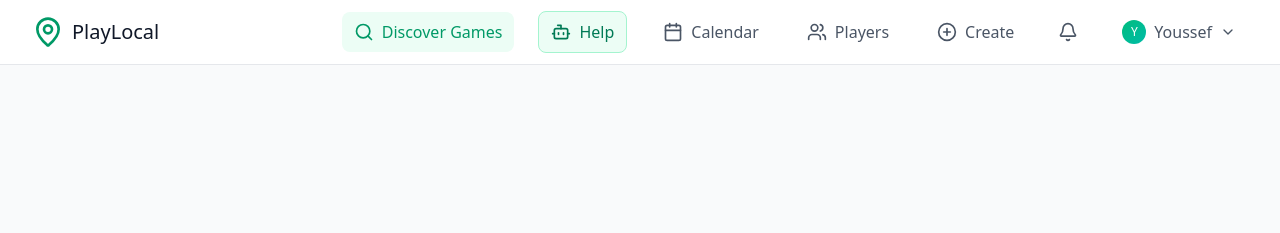
Scenario: Navigation › closes profile menu on mousedown outside
Click the button with aria-label "open account menu" at [1179, 32], box [1110,12,1248,52]
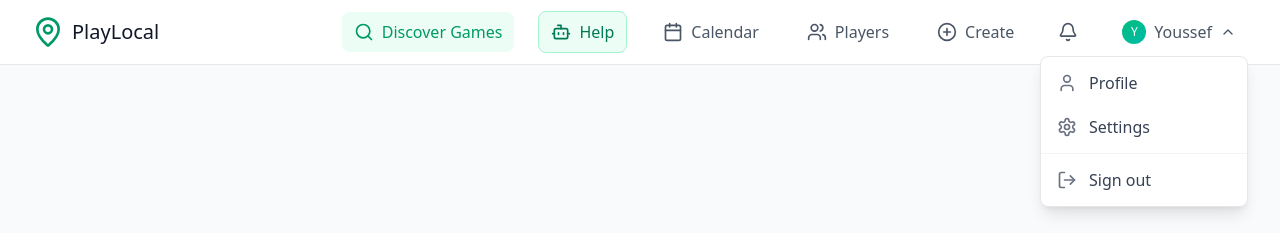
Result: the menu is shown at [1040,56,1248,207]
Press the mouse on the element that starts with "PlayLocal" at [640, 32], box [0,0,1279,65]
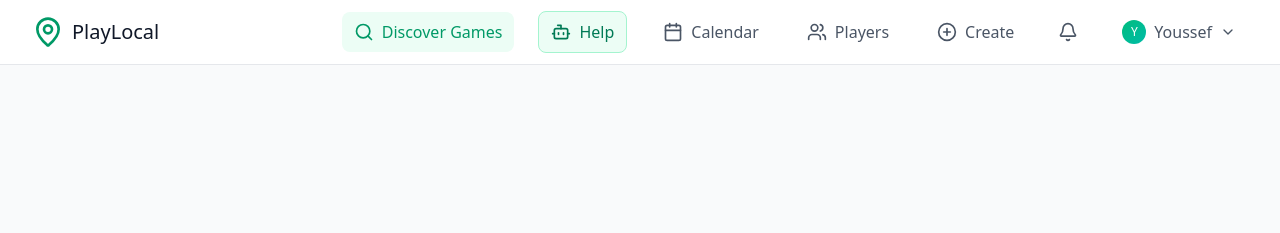
Result: the menu is gone
